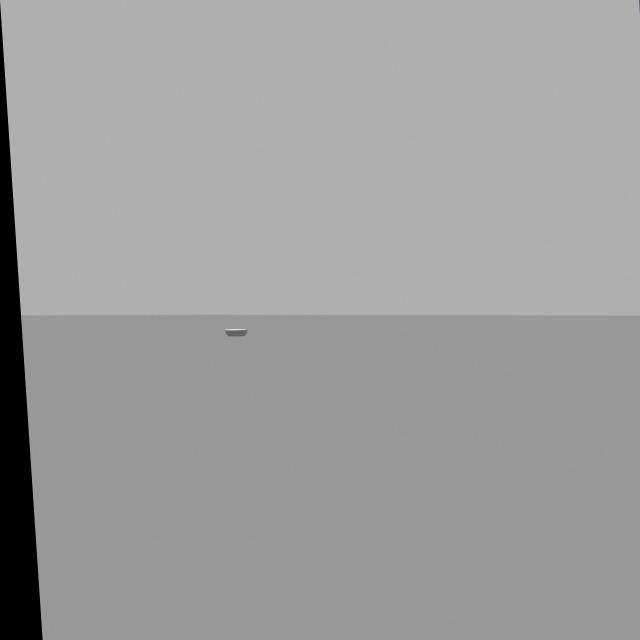bowl: (214, 319, 252, 344)
